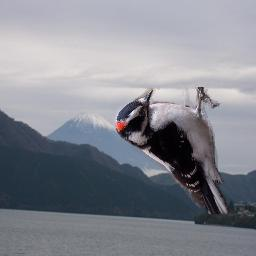Woodpecker: (113, 87, 230, 214)
